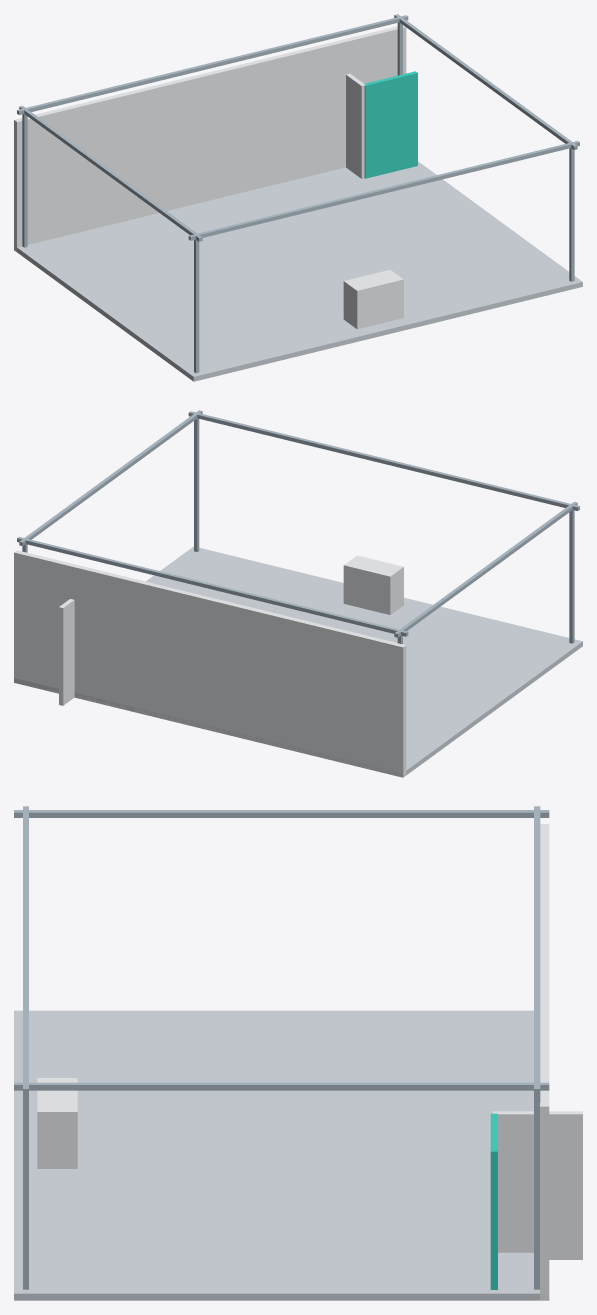
3 views of the same model, one above another, from view 1: azimuth 30°, elevation 25°; view 2: azimuth 150°, elevation 25°; view 3: azimuth 270°, elevation 25° (orthographic). The views are drawn at different scales.
Parts seen in each view (by area): view 1: Exhibition Booth Concept; view 2: Exhibition Booth Concept; view 3: Exhibition Booth Concept.
Boxes of the visible parts, <box> form: Exhibition Booth Concept: <box>14,14,582,381</box>; Exhibition Booth Concept: <box>14,410,582,777</box>; Exhibition Booth Concept: <box>14,806,582,1300</box>.
Bounding box in the file's own units: 10 × 3.49 × 8.51.
